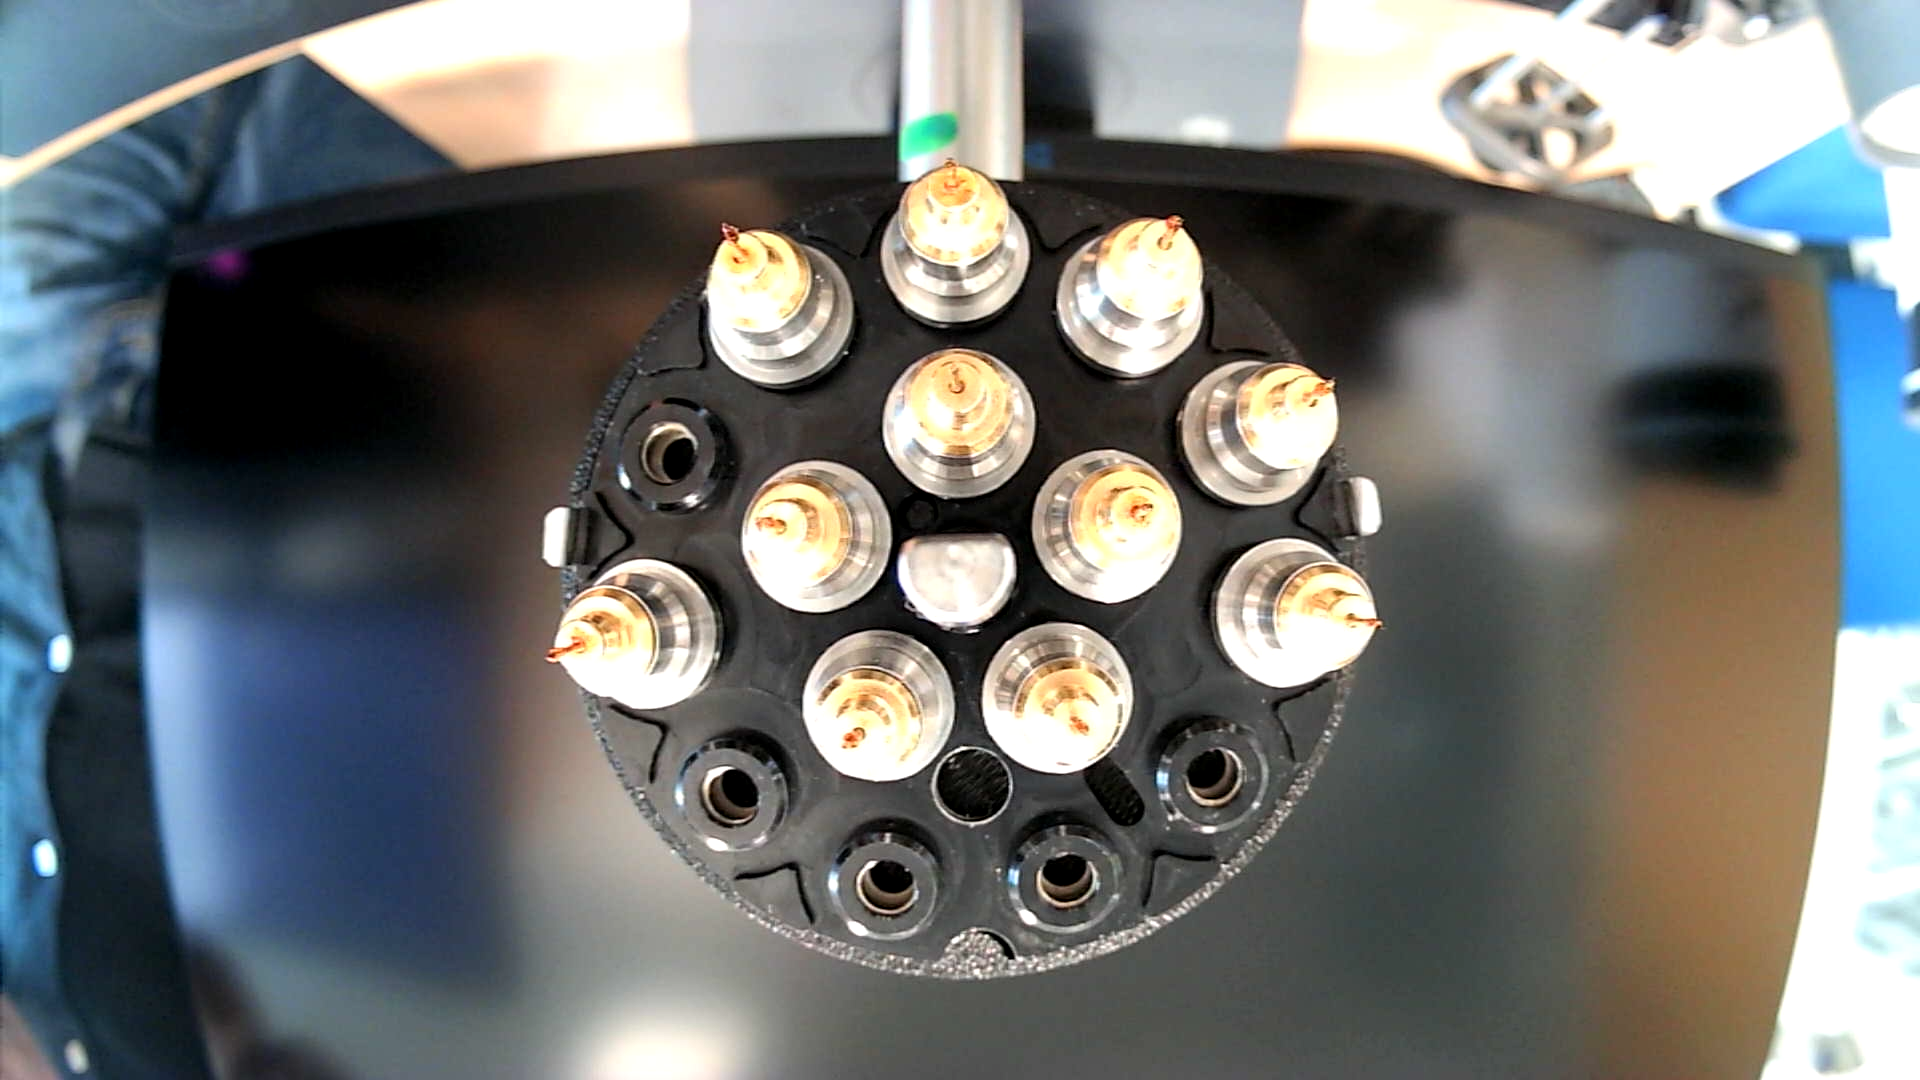empty: (822, 814, 956, 952), (1149, 712, 1280, 841), (674, 725, 799, 860), (1004, 810, 1127, 945), (612, 396, 742, 524)
hole: (930, 745, 1015, 829)
pin: (543, 555, 725, 715), (700, 218, 857, 396), (1211, 537, 1385, 694), (878, 158, 1031, 334), (1054, 212, 1205, 384), (800, 626, 959, 785), (1179, 359, 1342, 512), (738, 458, 894, 617), (880, 347, 1038, 501), (1030, 448, 1184, 607), (980, 618, 1135, 774)
rod: (893, 527, 1023, 638)
